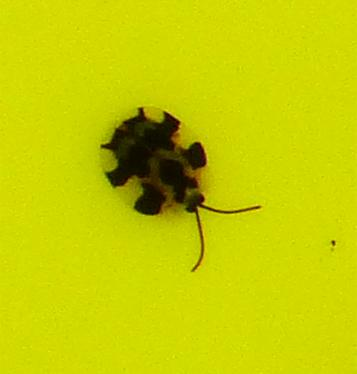Coleoptera: (100, 100, 257, 274)
